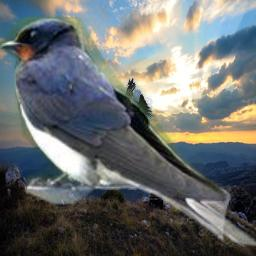Swallow: (0, 17, 256, 255)
Woodpecker: (93, 78, 152, 125)
